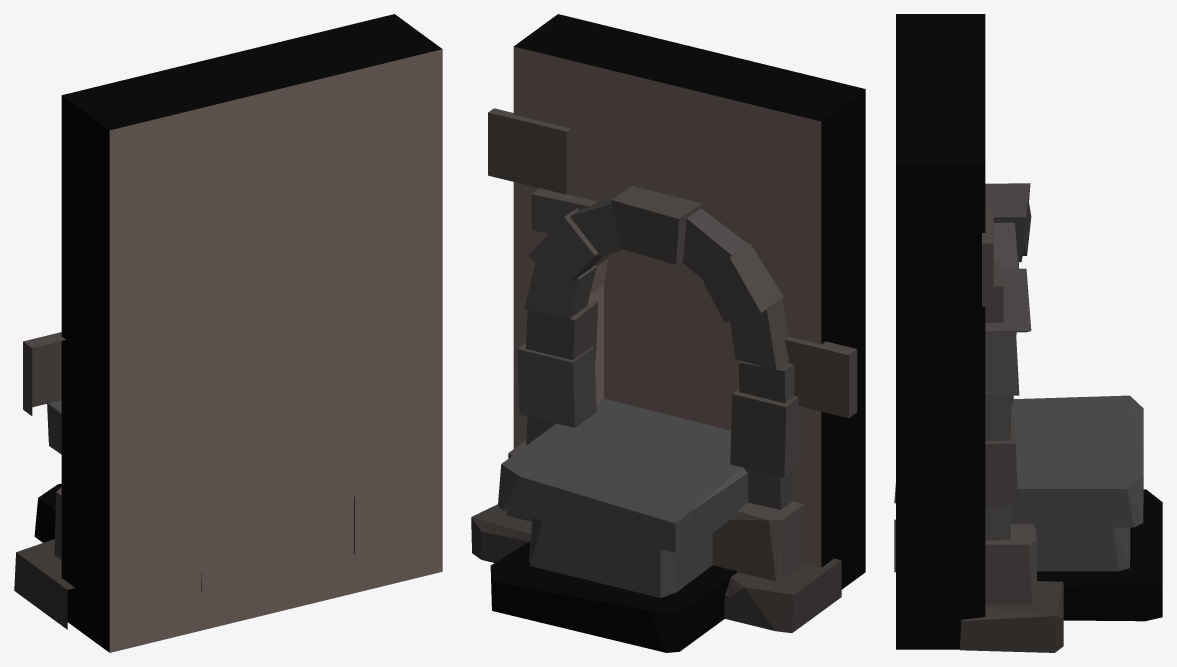
The model's file is Wall_S_statue.fbx.
3 views of the same model, side by side, from view 1: azimuth 30°, elevation 25°; view 2: azimuth 150°, elevation 25°; view 3: azimuth 270°, elevation 25° (orthographic). The views are drawn at different scales.
Parts seen in each view (by area): view 1: polySurface71; view 2: polySurface71; view 3: polySurface71.
Part boxes in pixels (x1,y1,x2,y2): polySurface71: (14, 14, 442, 652); polySurface71: (471, 14, 865, 652); polySurface71: (894, 14, 1162, 652).
Bounding box in the file's own units: 4.5 × 5.76 × 2.89.
